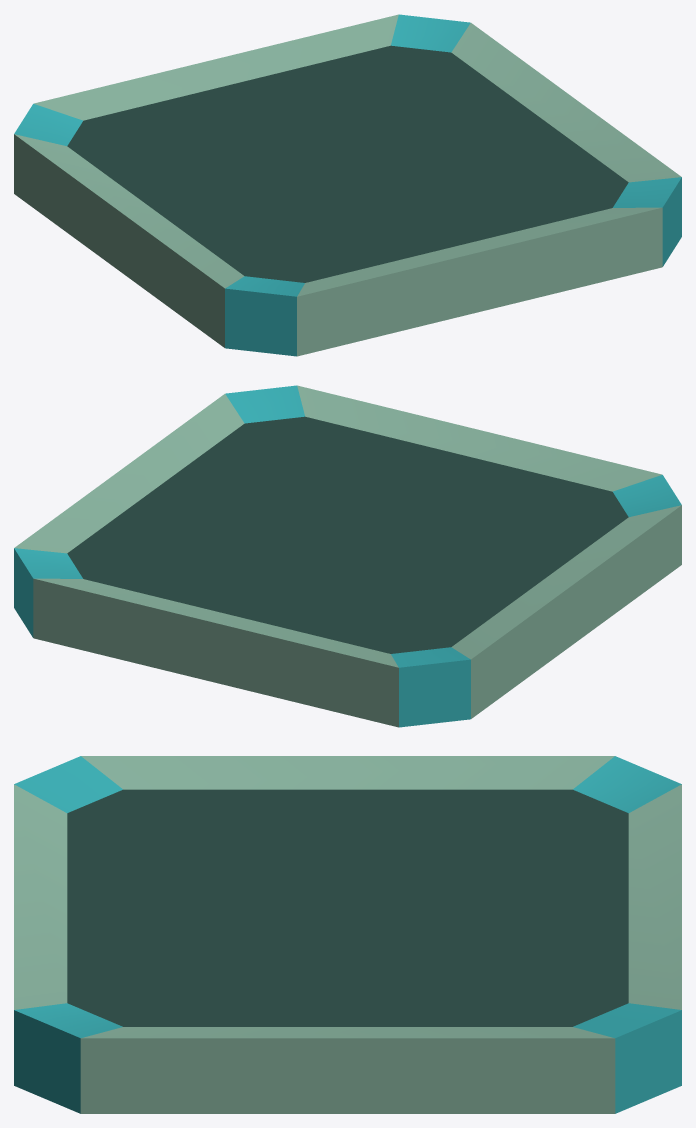
The model's file is Tile_Platform_float_03 (1).FBX.
3 views of the same model, one above another, from view 1: azimuth 30°, elevation 25°; view 2: azimuth 150°, elevation 25°; view 3: azimuth 270°, elevation 25° (orthographic). The views are drawn at different scales.
Visible parts, largest first — view 1: Tile_platform; view 2: Tile_platform; view 3: Tile_platform.
Boxes of the visible parts, bbox=[...] form: Tile_platform: bbox=[14, 14, 681, 356]; Tile_platform: bbox=[14, 385, 681, 727]; Tile_platform: bbox=[14, 756, 681, 1113].
Size of the model in its own units: 82 by 10.25 by 82.
